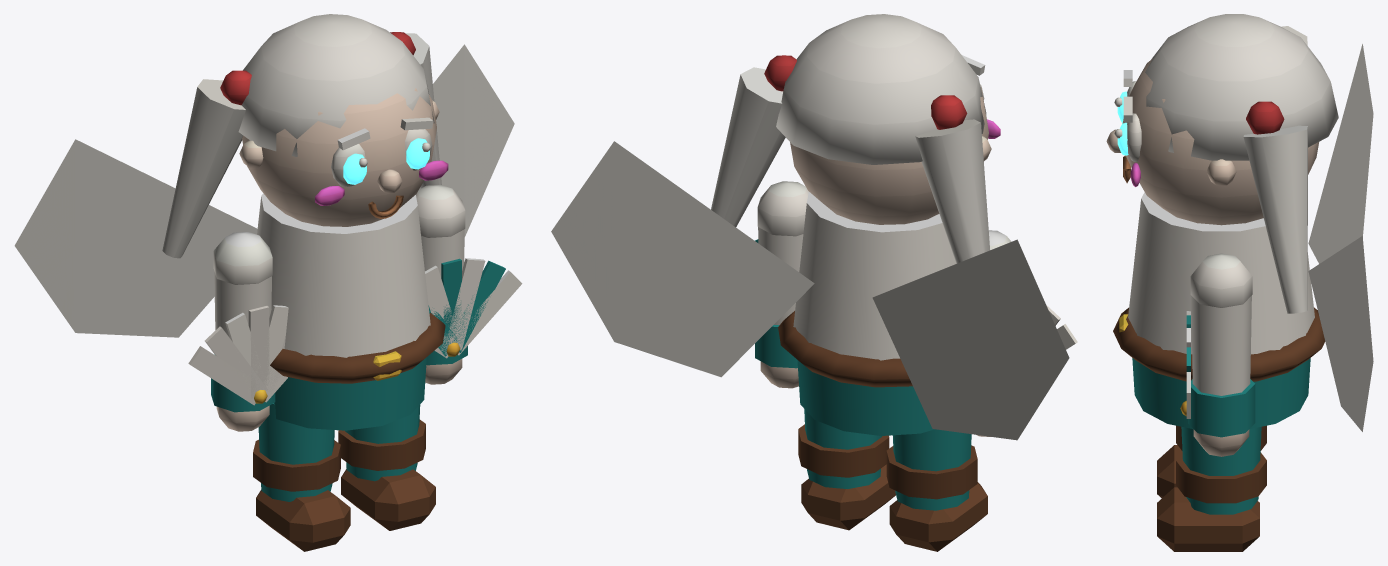
Rendered from hero_zephyra.glb.
3 views of the same model, side by side, from view 1: azimuth 30°, elevation 25°; view 2: azimuth 150°, elevation 25°; view 3: azimuth 270°, elevation 25° (orthographic). The views are drawn at different scales.
Visible parts, largest first — view 1: body_t0_palette, arml_t0_palette, armr_t0_palette, legl_t0_palette, legr_t0_palette, body_t0_crystal; view 2: body_t0_palette, legl_t0_palette, legr_t0_palette, armr_t0_palette, arml_t0_palette; view 3: body_t0_palette, armr_t0_palette, legr_t0_palette, legl_t0_palette, body_t0_crystal.
Boxes of the visible parts, x1,y1,x2,y2 form: body_t0_palette: (14, 14, 514, 430); arml_t0_palette: (188, 232, 288, 431); armr_t0_palette: (416, 184, 522, 384); legl_t0_palette: (253, 403, 350, 551); legr_t0_palette: (338, 404, 435, 530); body_t0_crystal: (343, 138, 429, 184); body_t0_palette: (551, 14, 1069, 440); legl_t0_palette: (886, 429, 987, 551); legr_t0_palette: (798, 409, 895, 530); armr_t0_palette: (755, 181, 808, 388); arml_t0_palette: (977, 230, 1077, 436); body_t0_palette: (1106, 14, 1373, 431); armr_t0_palette: (1180, 253, 1255, 456); legr_t0_palette: (1157, 426, 1266, 551); legl_t0_palette: (1157, 425, 1266, 498); body_t0_crystal: (1117, 91, 1128, 155).
Size of the model in its own units: 0.54 by 0.508 by 0.246.
